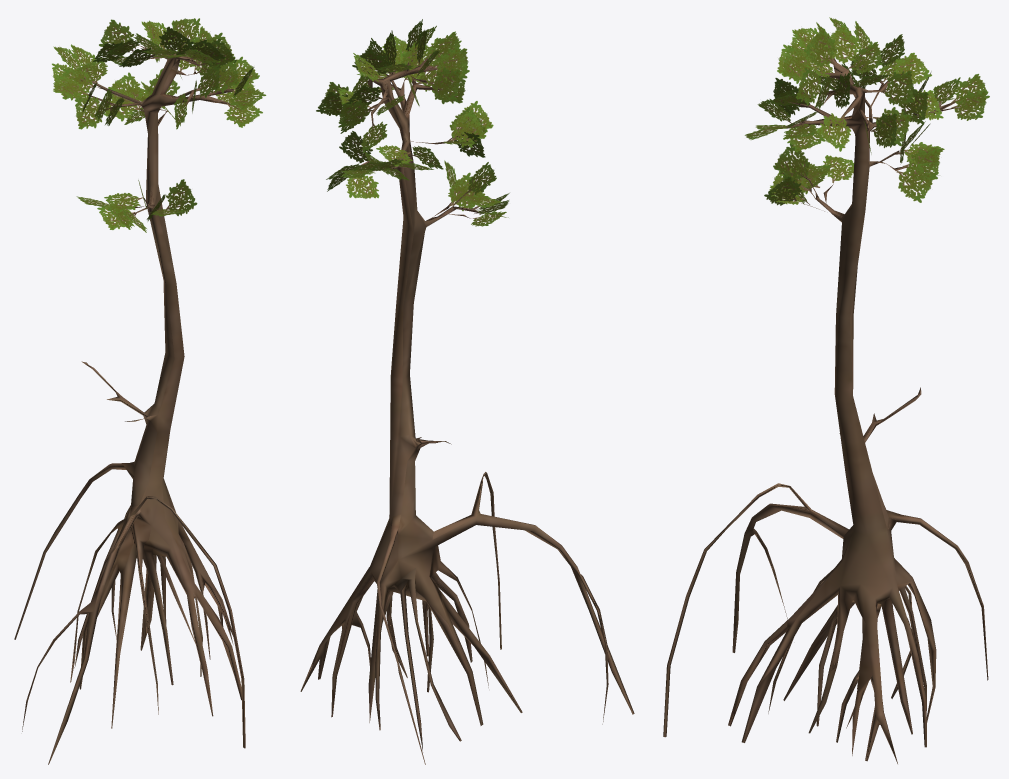
Rendered from duoc-cao.glb.
3 renders of one model, left to right at view 1: azimuth 30°, elevation 25°; view 2: azimuth 150°, elevation 25°; view 3: azimuth 270°, elevation 25°, orthographic. The views are drawn at different scales.
Visible parts, largest first — view 1: CHA_ENV_TallMangrove, Leaves; view 2: CHA_ENV_TallMangrove, Leaves; view 3: CHA_ENV_TallMangrove, Leaves.
Boxes of the visible parts, left/top/right/bottom form: CHA_ENV_TallMangrove: left=14, top=44, right=245, bottom=764; Leaves: left=52, top=18, right=266, bottom=232; CHA_ENV_TallMangrove: left=300, top=55, right=634, bottom=764; Leaves: left=316, top=19, right=509, bottom=226; CHA_ENV_TallMangrove: left=663, top=54, right=988, bottom=763; Leaves: left=744, top=17, right=989, bottom=205.
Bounding box in the file's own units: 0.3913 × 1 × 0.4191.
2 materials, 2 textured.
